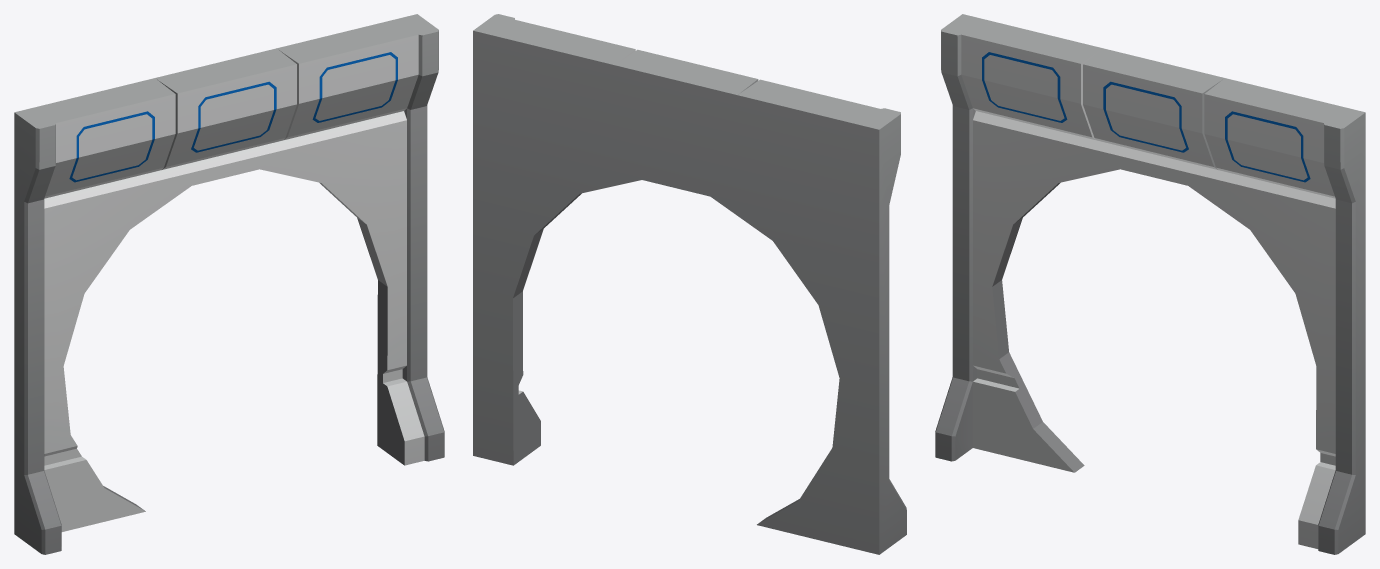
Rendered from Wall_type_A_061.fbx.
3 renders of one model, left to right at view 1: azimuth 30°, elevation 25°; view 2: azimuth 150°, elevation 25°; view 3: azimuth 330°, elevation 25°, orthographic.
Visible parts, largest first — view 1: Wall_type_A_061; view 2: Wall_type_A_061; view 3: Wall_type_A_061.
Part boxes in pixels (box(x1,y1,x2,y2)): Wall_type_A_061: box(14, 14, 444, 554); Wall_type_A_061: box(473, 14, 906, 554); Wall_type_A_061: box(935, 14, 1365, 554).
Size of the model in its own units: 400 by 50 by 400.
